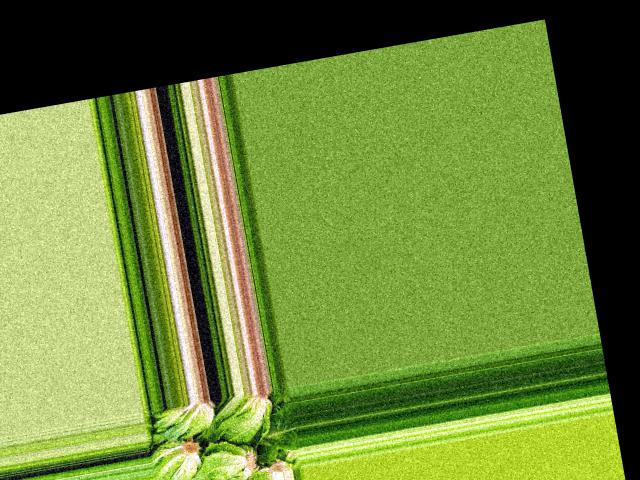lettuce: (260, 414, 300, 454)
